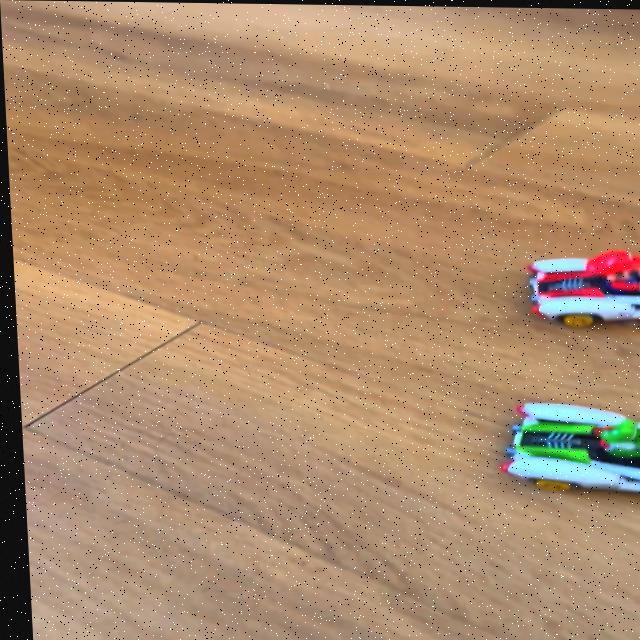mario: (496, 240, 640, 331)
yoshi: (476, 393, 640, 501)
